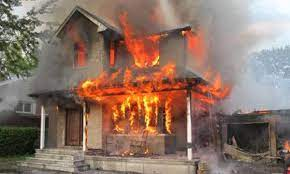smoke: (93, 1, 288, 116)
